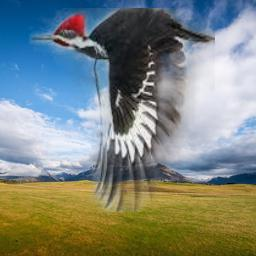Woodpecker: (29, 8, 215, 212)
